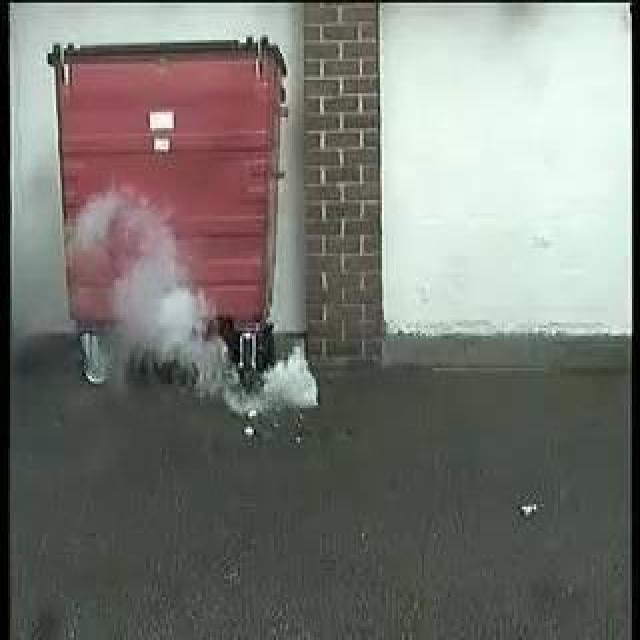Smoke: (109, 221, 315, 408)
